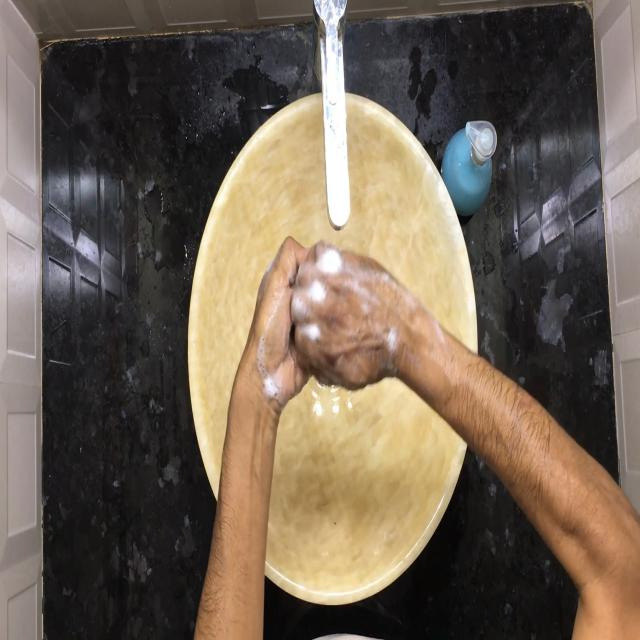step_4: (258, 221, 415, 407)
